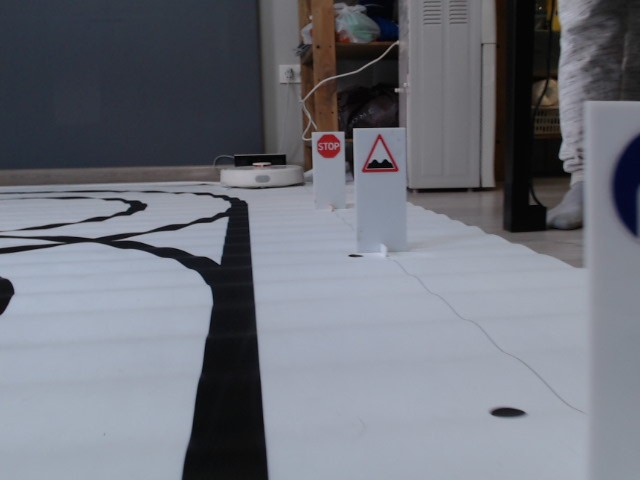Nerov: (362, 133, 400, 177)
Stop: (315, 133, 341, 157)
